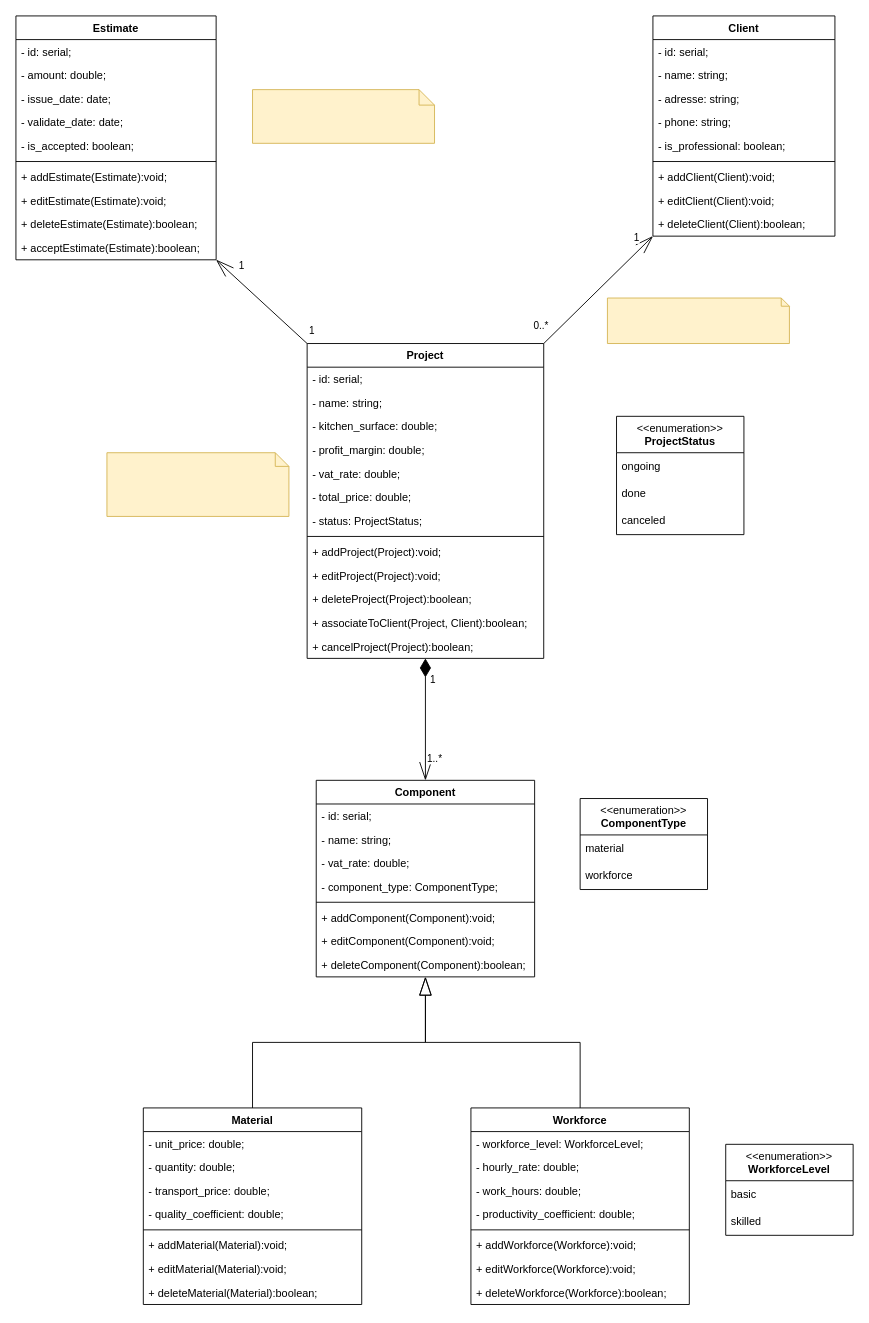
Image size: 869x1323. Some labels were removed from this diagram. Here are the shapes that lost their labels. From the top down, the centre of each, then its label:
At point 343,116: "Estimete amount is the total project price with taxes and profit margin.".
At point 698,320: "la relation Project-Client est définie d'àprés user story 2.".
At point 197,484: "Project total_price is the price estimation off taxes and profit margin.".
